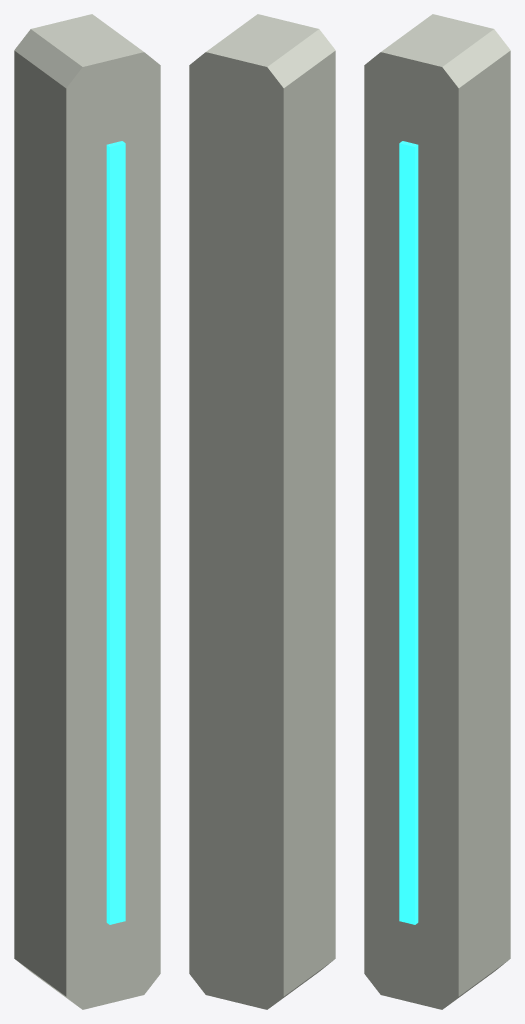
File: Utility_CommRelay_Mast.glb
3 views of the same model, side by side, from view 1: azimuth 30°, elevation 25°; view 2: azimuth 150°, elevation 25°; view 3: azimuth 330°, elevation 25° (orthographic).
Parts seen in each view (by area): view 1: Utility_CommRelay_Mast; view 2: Utility_CommRelay_Mast; view 3: Utility_CommRelay_Mast.
Part boxes in pixels (x1,y1,x2,y2): Utility_CommRelay_Mast: [14, 14, 160, 1009]; Utility_CommRelay_Mast: [189, 14, 335, 1009]; Utility_CommRelay_Mast: [364, 14, 510, 1009].
Bounding box in the file's own units: 0.42 × 4 × 0.4325.
